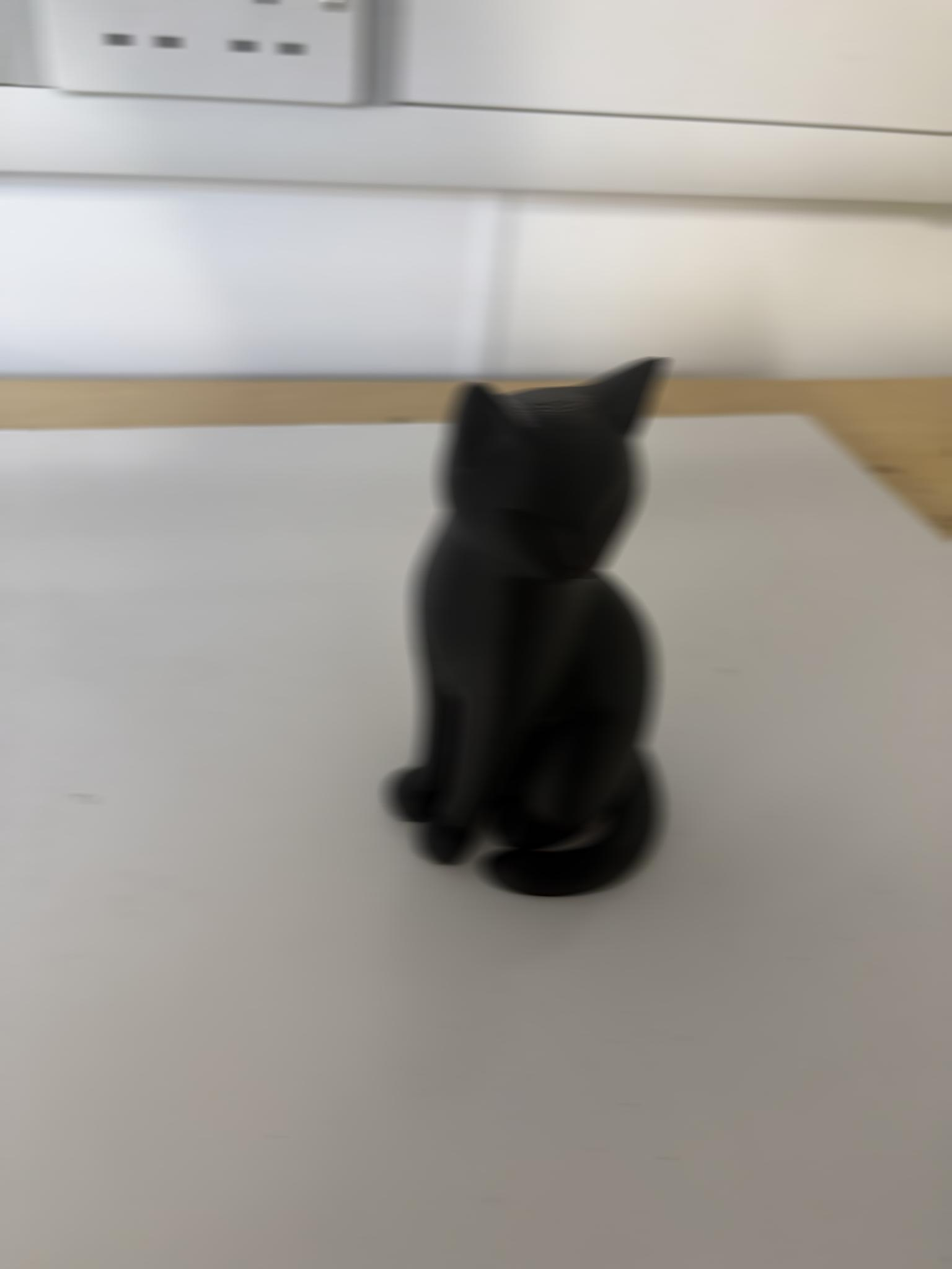cat: (388, 359, 664, 895)
